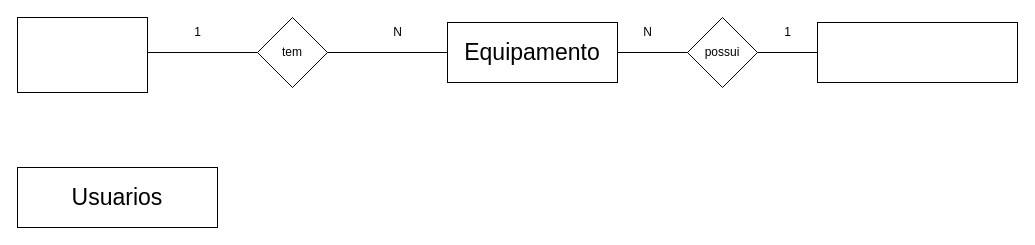
This 1035x245 diagram has some shape labels left out. The centre of each missing label's shape, as x and y in pixels:
"Sala" belongs at point 82,54.
"TiposEquipamento" belongs at point 917,52.
